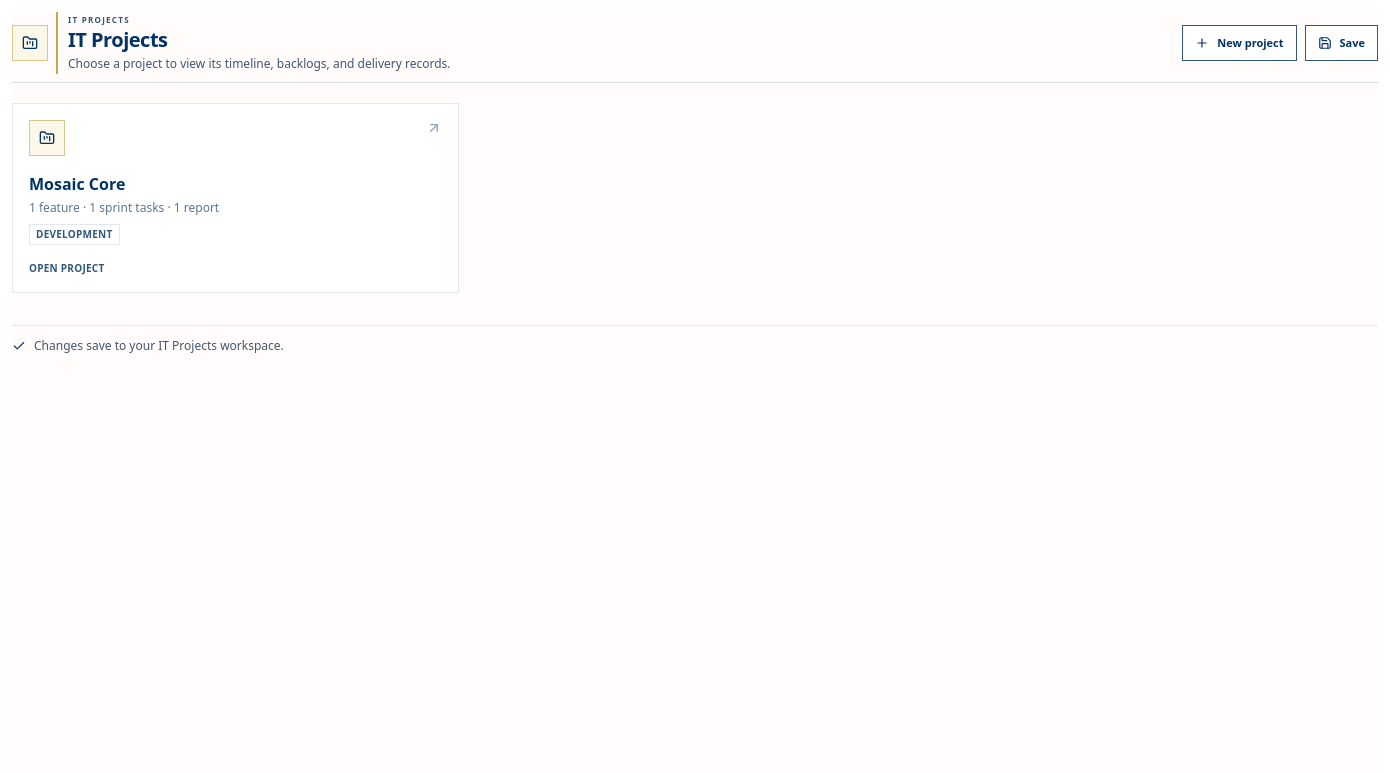
Test: IT Projects workspace › shows the eight requested sections and the Reports tab
This screenshot has width=1390, height=773.
Step 1. Click the button "Mosaic Core" → (47, 138), box [12,103,459,293]
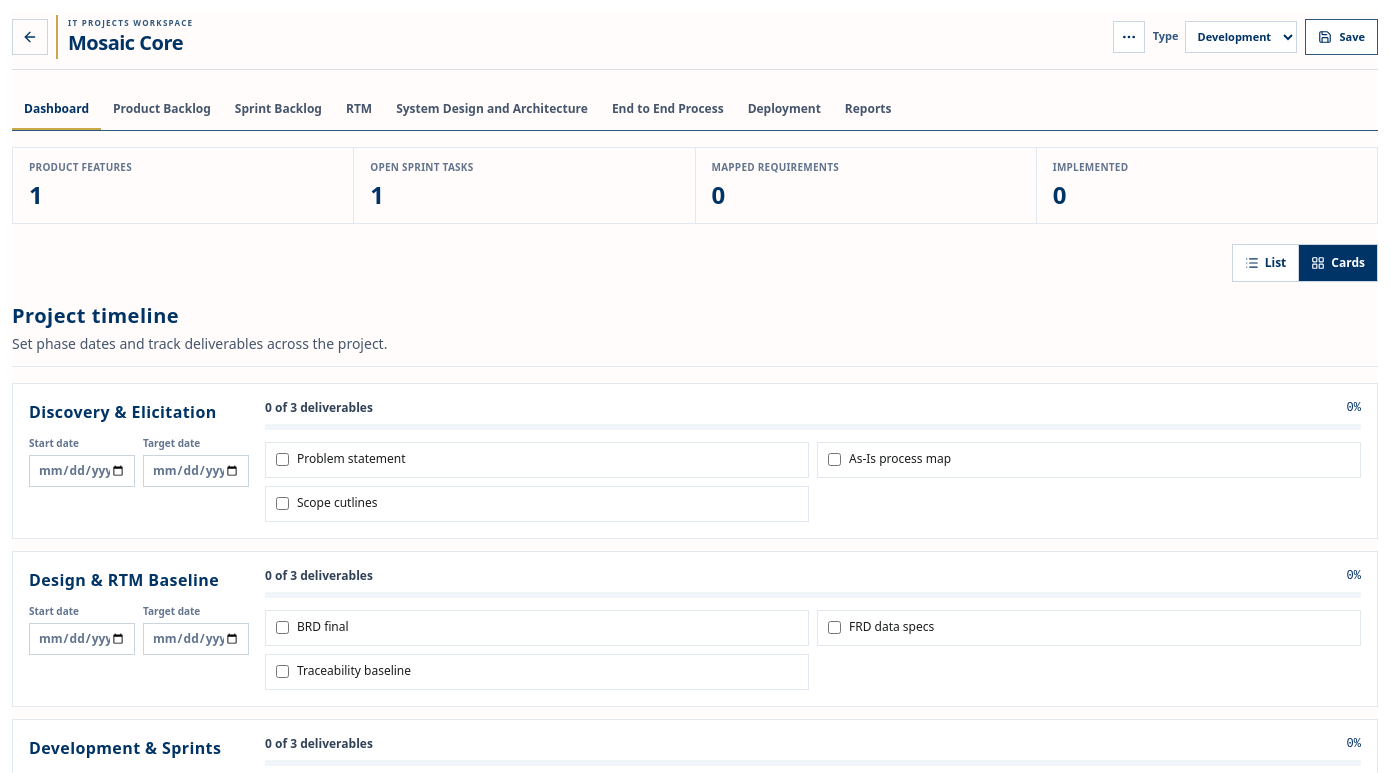
Check: the heading "Project timeline" is shown, box [12,302,179,329]
